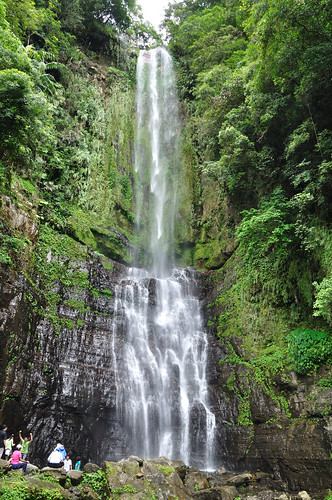wufengciWaterfall: (64, 27, 261, 472)
